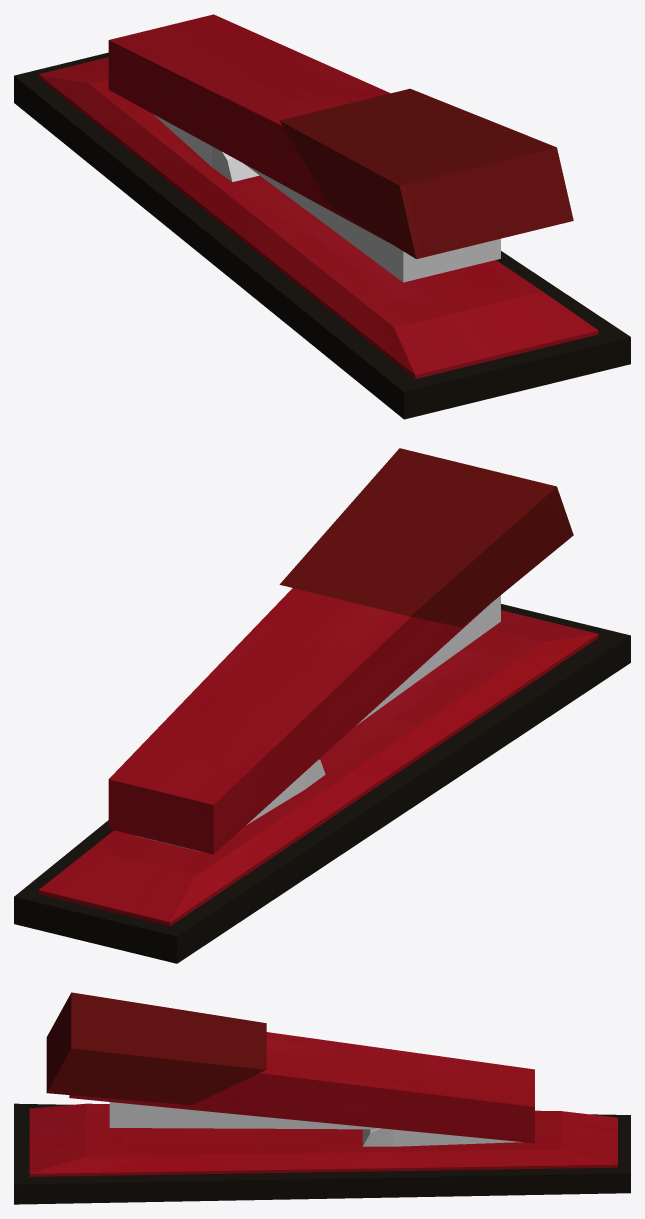
Rendered from StaplerProp.fbx.
3 views of the same model, one above another, from view 1: azimuth 30°, elevation 25°; view 2: azimuth 150°, elevation 25°; view 3: azimuth 270°, elevation 25° (orthographic). The views are drawn at different scales.
Visible parts, largest first — view 1: Cube, Cube.004, Cube.005, Cube.002; view 2: Cube, Cube.004, Cube.005, Cube.002; view 3: Cube, Cube.004, Cube.005, Cube.002.
Part boxes in pixels (x1,y1,x2,y2): Cube: (38,14,598,378); Cube.004: (279,88,573,259); Cube.005: (14,52,630,419); Cube.002: (153,114,500,282); Cube: (38,588,598,926); Cube.004: (279,448,573,627); Cube.005: (14,604,630,963); Cube.002: (135,595,500,851); Cube: (29,1032,617,1176); Cube.004: (46,992,266,1105); Cube.005: (14,1103,630,1204); Cube.002: (109,1102,522,1146).
Size of the model in its own units: 110 by 90.67 by 353.
